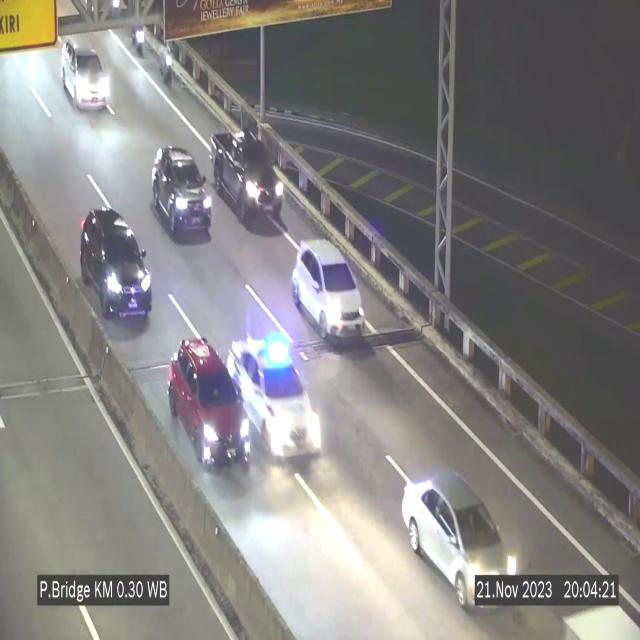Car: (401, 468, 516, 613), (227, 330, 322, 465), (167, 335, 253, 469), (80, 207, 152, 325), (292, 240, 366, 342), (210, 127, 285, 227), (152, 146, 210, 242), (60, 32, 112, 114)
Motorcycle: (157, 39, 176, 95), (130, 12, 148, 61)
